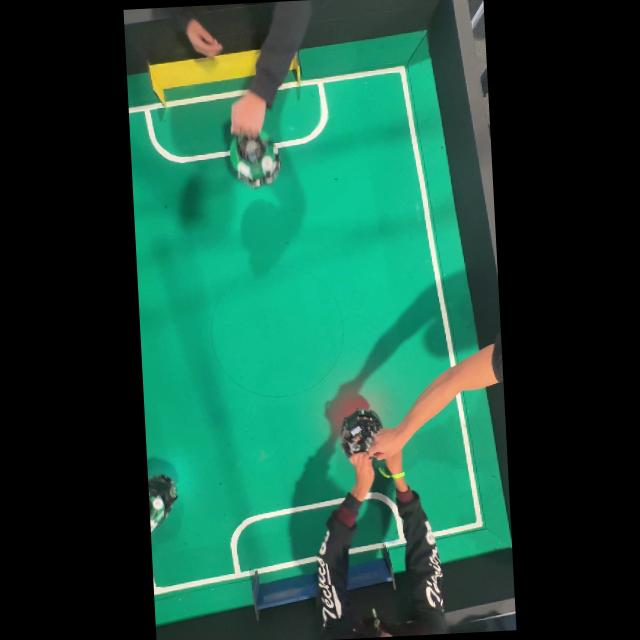goal: (148, 50, 260, 106), (252, 570, 317, 621), (348, 544, 395, 590), (289, 55, 300, 85)
robot: (230, 132, 280, 188), (341, 409, 382, 457), (148, 474, 177, 532)
